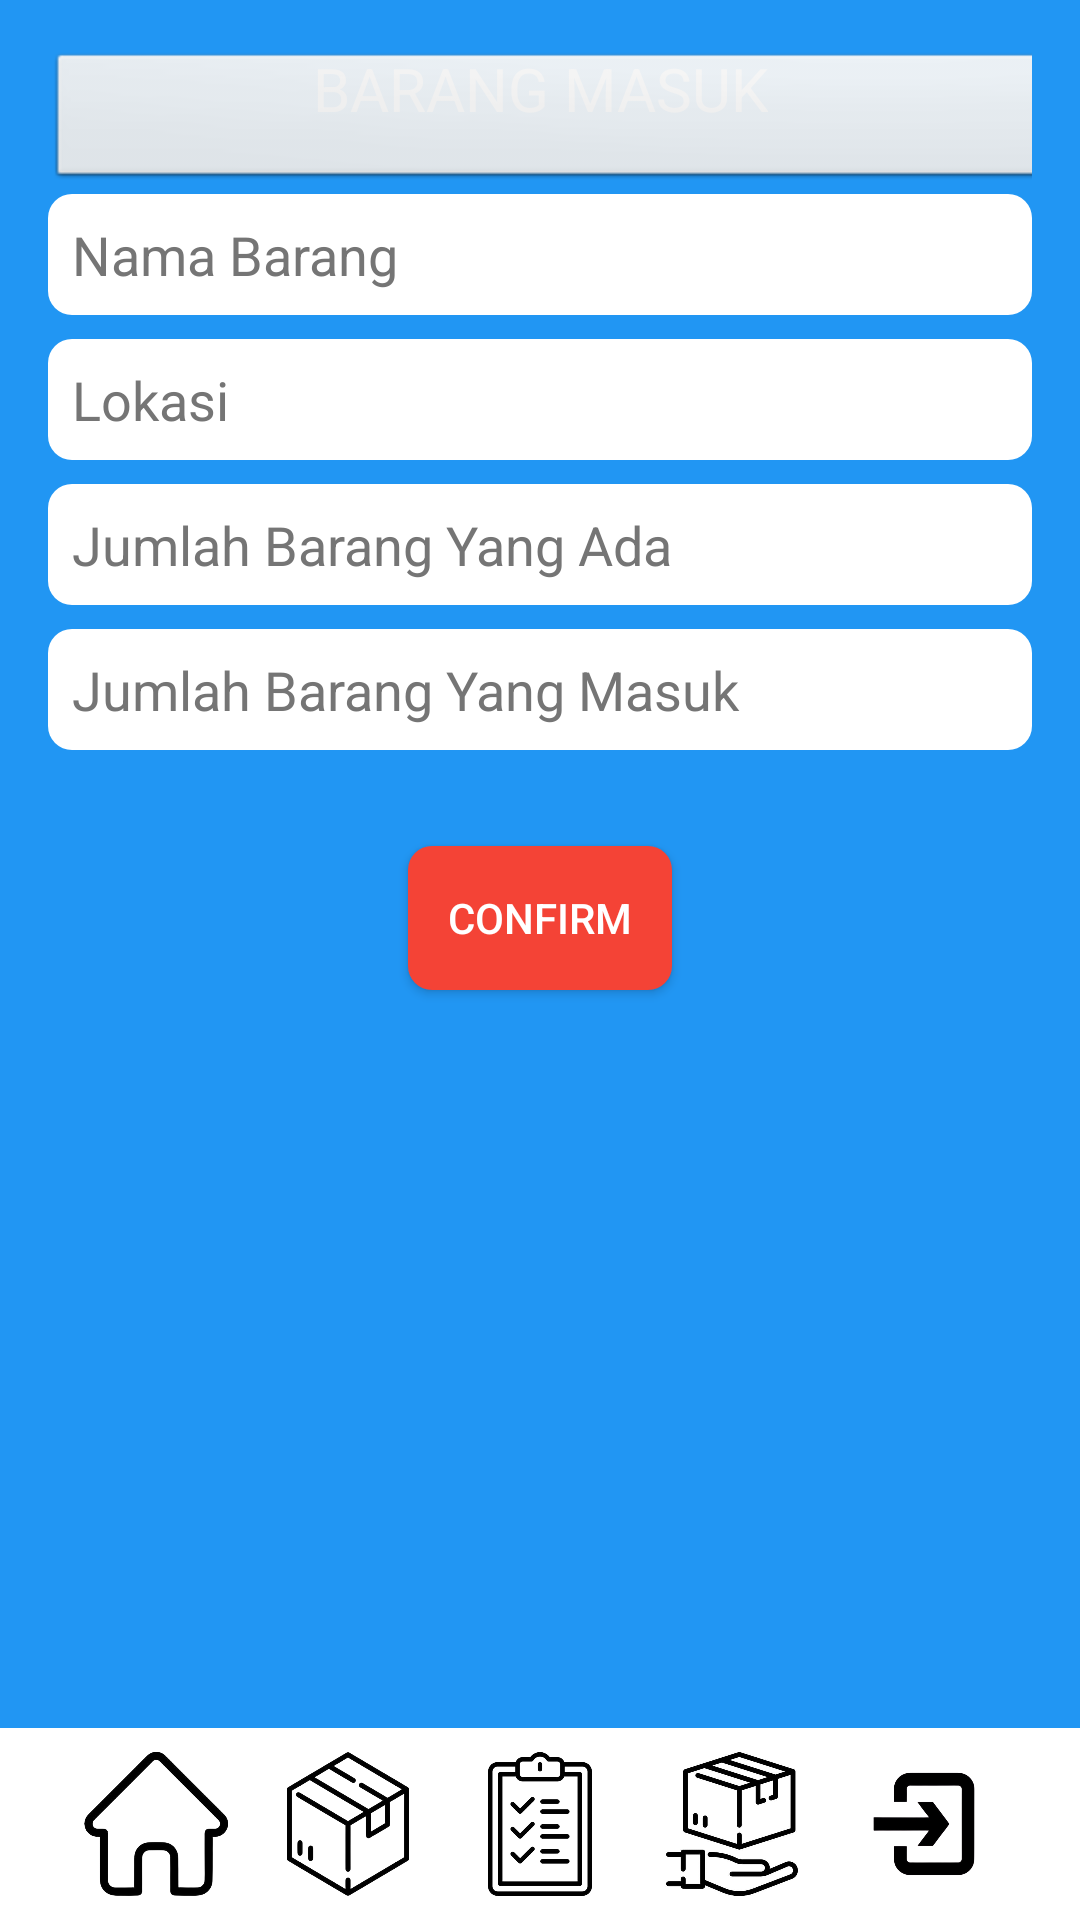

Locate icon controls on the screen. Image size 1080px×1920px, boxes as [x1=x1, y1=y1, x2=x2, y2=y2].
beranda: [x1=84, y1=1752, x2=228, y2=1896]
